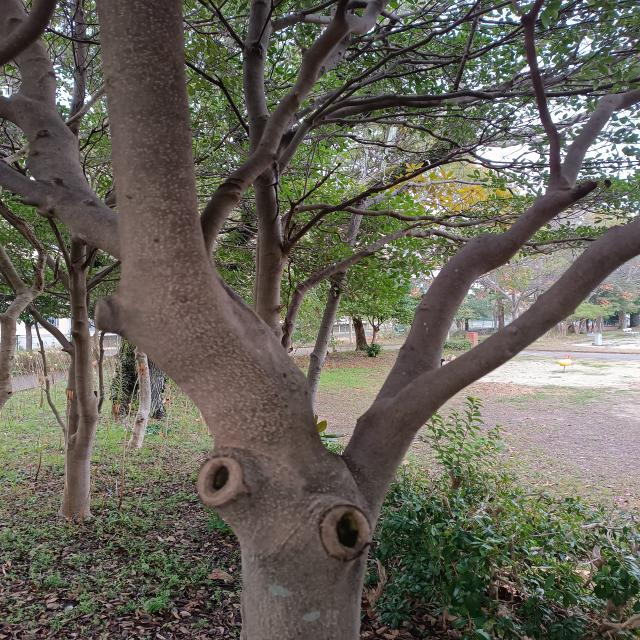Branch: (94, 1, 334, 553), (381, 85, 640, 396), (406, 216, 639, 419), (0, 0, 119, 259), (339, 398, 426, 527)
Twig: (202, 0, 389, 254), (517, 0, 561, 177), (0, 160, 43, 208)
